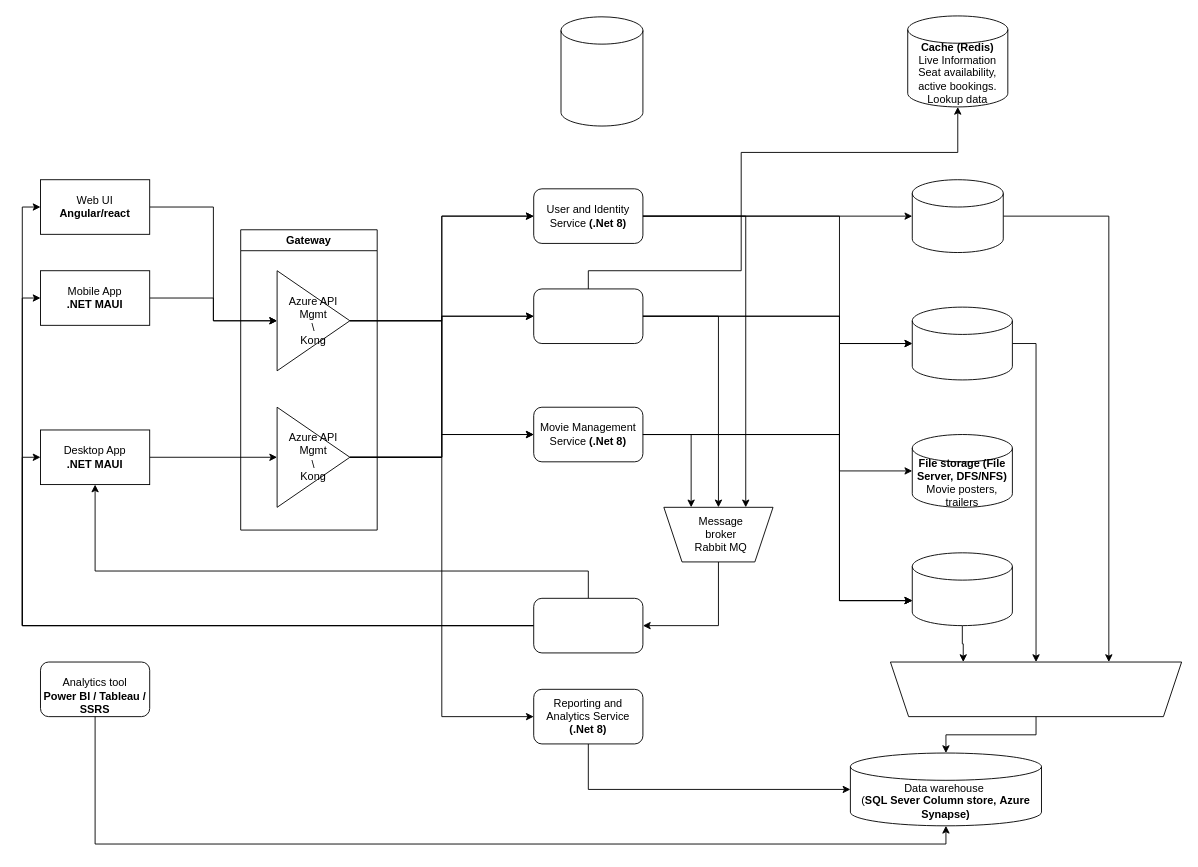
Image size: 1198x867. Some labels were removed from this diagram. The centre of each missing label's shape, as x and y in pixels:
Booking and Payment Service (.Net 8): point 588,316
Event processor & Batch data processor Kaka & (SSIS, Azure data factory): point 1036,689
Event Store (Kafka) Logs, User activity, Trail data: point 961,589
Identity server Active Directory: point 601,71
NoSQL Mongo db) Movies data User preference: point 961,343
Notification Service (.Net 8 / Node js): point 588,625
SQL Server/ Postgres Users, Booking, Payments: point 957,216
